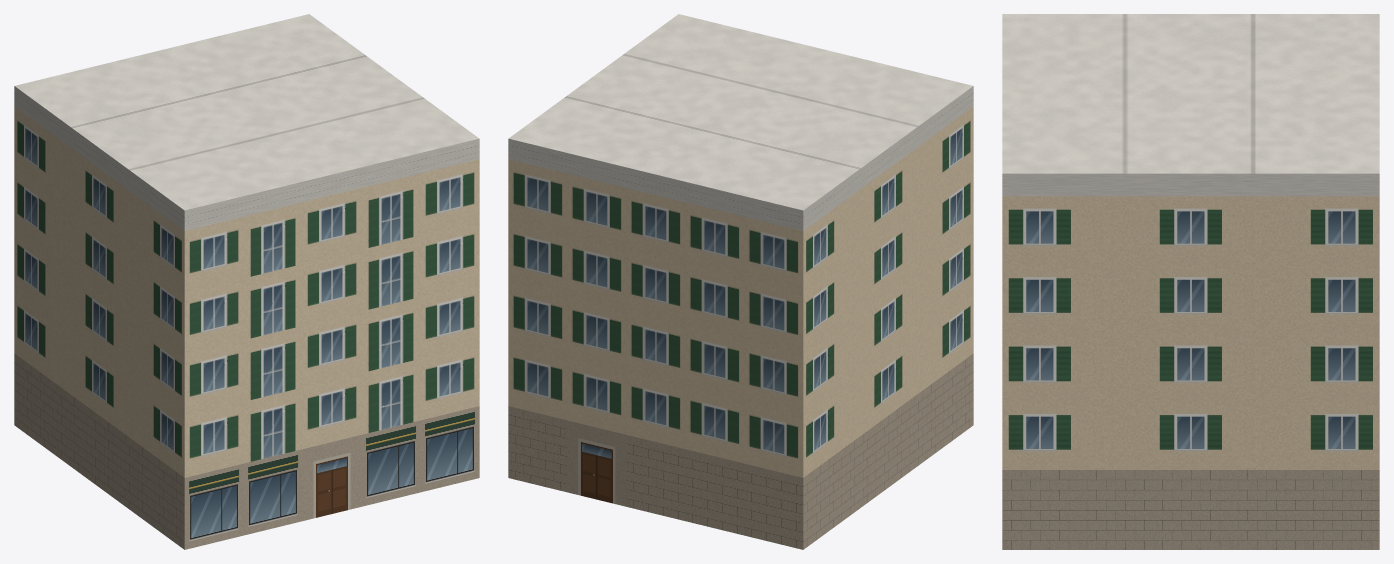
The model's file is EU_ResidencialAlameda_L1_2x3_LOD1.fbx.
3 views of the same model, side by side, from view 1: azimuth 30°, elevation 25°; view 2: azimuth 150°, elevation 25°; view 3: azimuth 270°, elevation 25° (orthographic). The views are drawn at different scales.
Parts seen in each view (by area): view 1: EU_ResidencialAlameda_L1_2x3_LOD1; view 2: EU_ResidencialAlameda_L1_2x3_LOD1; view 3: EU_ResidencialAlameda_L1_2x3_LOD1.
Boxes of the visible parts, x1,y1,x2,y2 form: EU_ResidencialAlameda_L1_2x3_LOD1: (14, 14, 479, 549); EU_ResidencialAlameda_L1_2x3_LOD1: (508, 14, 973, 549); EU_ResidencialAlameda_L1_2x3_LOD1: (1002, 14, 1379, 549).
Size of the model in its own units: 15 by 16.5 by 15.
Materials: 1 (1 with a texture image).
